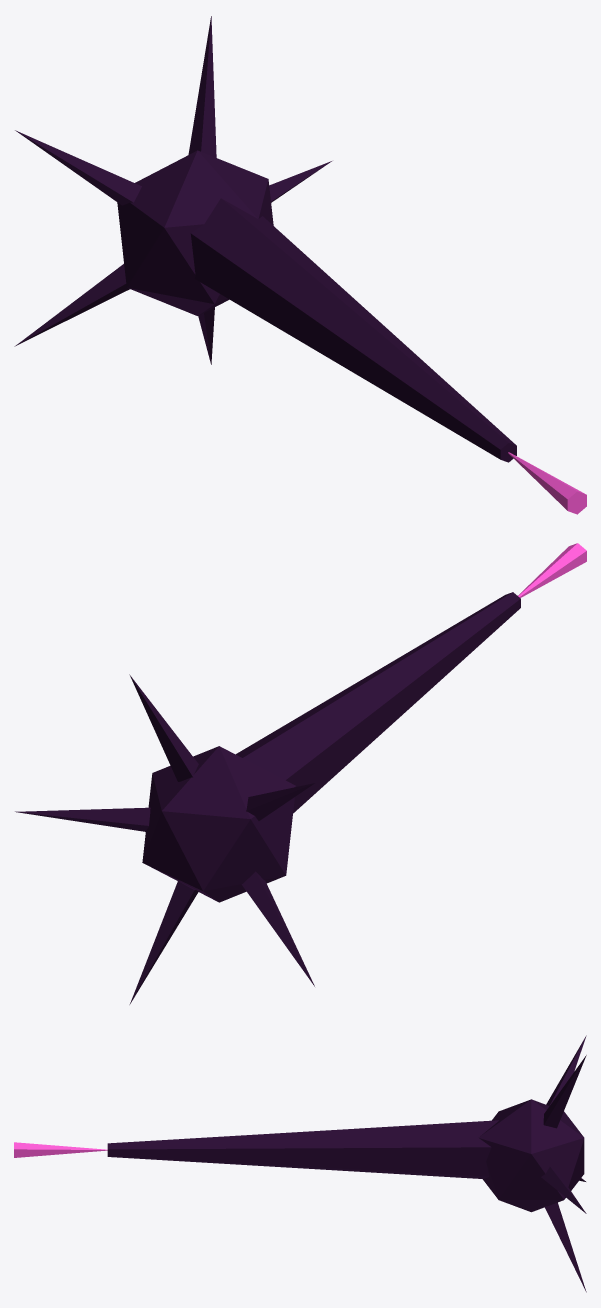
Rendered from TrophyUrchin.obj.
3 views of the same model, one above another, from view 1: azimuth 30°, elevation 25°; view 2: azimuth 150°, elevation 25°; view 3: azimuth 270°, elevation 25° (orthographic). The views are drawn at different scales.
Parts seen in each view (by area): view 1: TrophyUrchin; view 2: TrophyUrchin; view 3: TrophyUrchin.
Part boxes in pixels (x1,y1,x2,y2): TrophyUrchin: (14,16,586,514); TrophyUrchin: (15,543,586,1004); TrophyUrchin: (14,1035,586,1292).
Bounding box in the file's own units: 0.4031 × 0.4239 × 0.9191.
